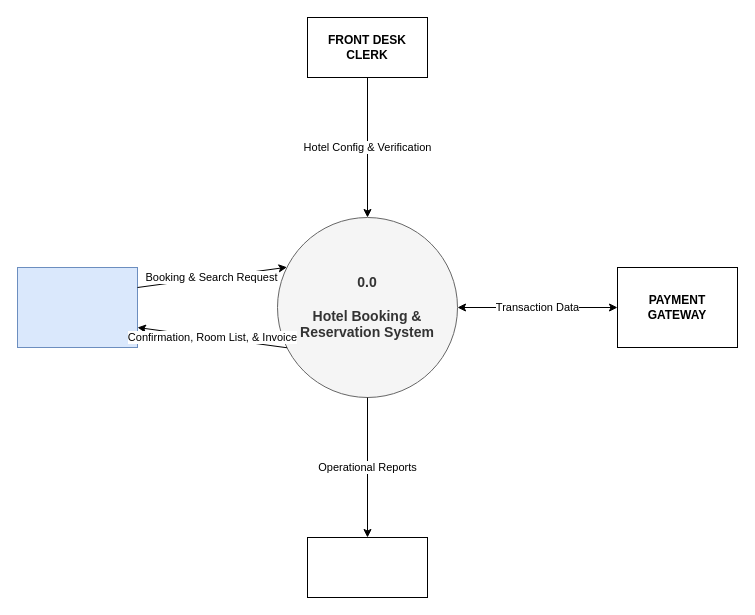
The diagram is 755 pixels wide and 615 high, and some of its shapes have lost their labels. Each missing label, with the box of its shape:
CUSTOMER: (16, 266, 138, 348)
HOTEL MANAGER: (306, 536, 428, 598)
